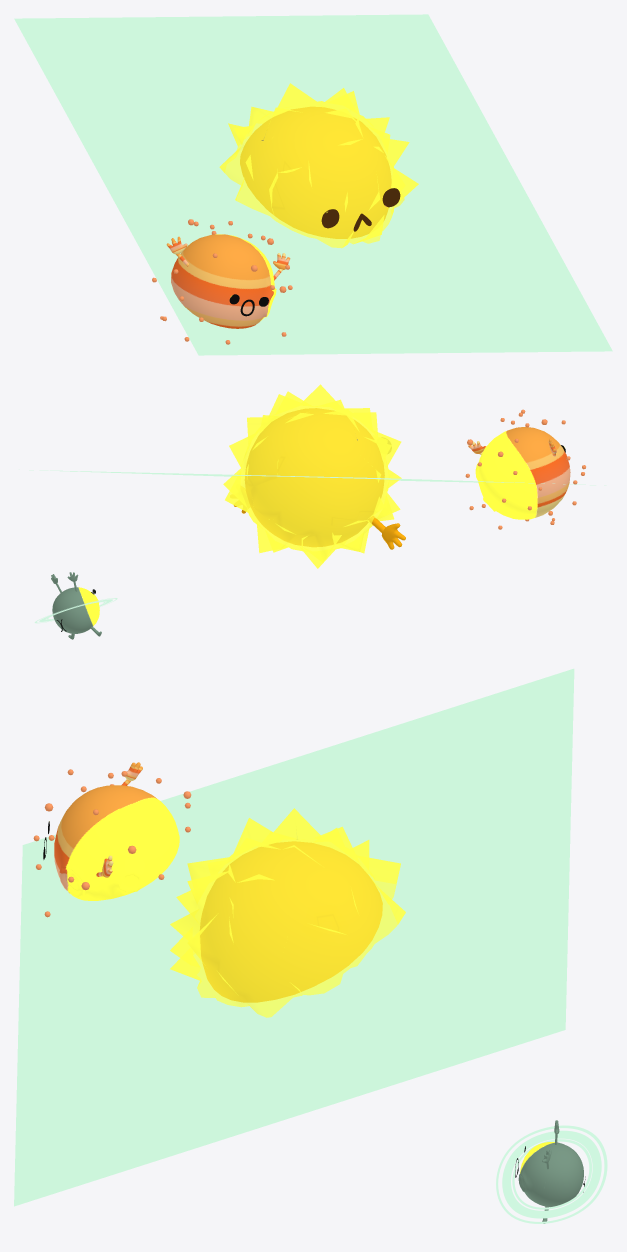
File: hot_sun.glb
3 views of the same model, one above another, from view 1: azimuth 30°, elevation 25°; view 2: azimuth 150°, elevation 25°; view 3: azimuth 270°, elevation 25° (orthographic). The views are drawn at different scales.
Parts seen in each view (by area): view 1: circle, Cube.075, Cube.074, Cube.081, Plane.021, Cube.088; view 2: Cube.075, Cube.074, Cube.081, Cube.073, circle, Cube.088, Cube.080; view 3: circle, Cube.075, Cube.074, Cube.081, circle2, Cube.073.
Part boxes in pixels (<box>): circle: <box>14,14,612,355</box>; Cube.075: <box>219,83,418,248</box>; Cube.074: <box>240,107,391,238</box>; Cube.081: <box>171,234,276,328</box>; Plane.021: <box>321,188,400,231</box>; Cube.088: <box>152,219,292,344</box>; Cube.075: <box>223,384,401,568</box>; Cube.074: <box>245,408,384,546</box>; Cube.081: <box>475,427,570,519</box>; Cube.073: <box>52,587,99,633</box>; circle: <box>19,469,606,485</box>; Cube.088: <box>465,409,585,529</box>; Cube.080: <box>234,505,405,549</box>; circle: <box>14,668,574,1206</box>; Cube.075: <box>170,808,405,1017</box>; Cube.074: <box>200,841,382,1002</box>; Cube.081: <box>54,785,179,900</box>; circle2: <box>496,1125,607,1223</box>; Cube.073: <box>518,1142,583,1206</box>.
Size of the model in its own units: 7.38 by 4.34 by 6.91.
Materials: 5 (5 with a texture image).
